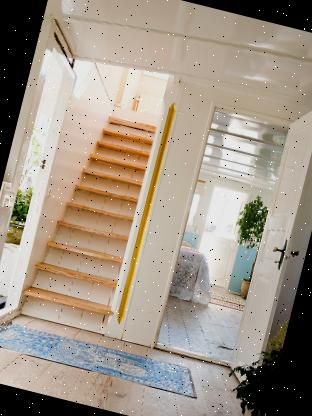stair: (8, 98, 163, 340)
